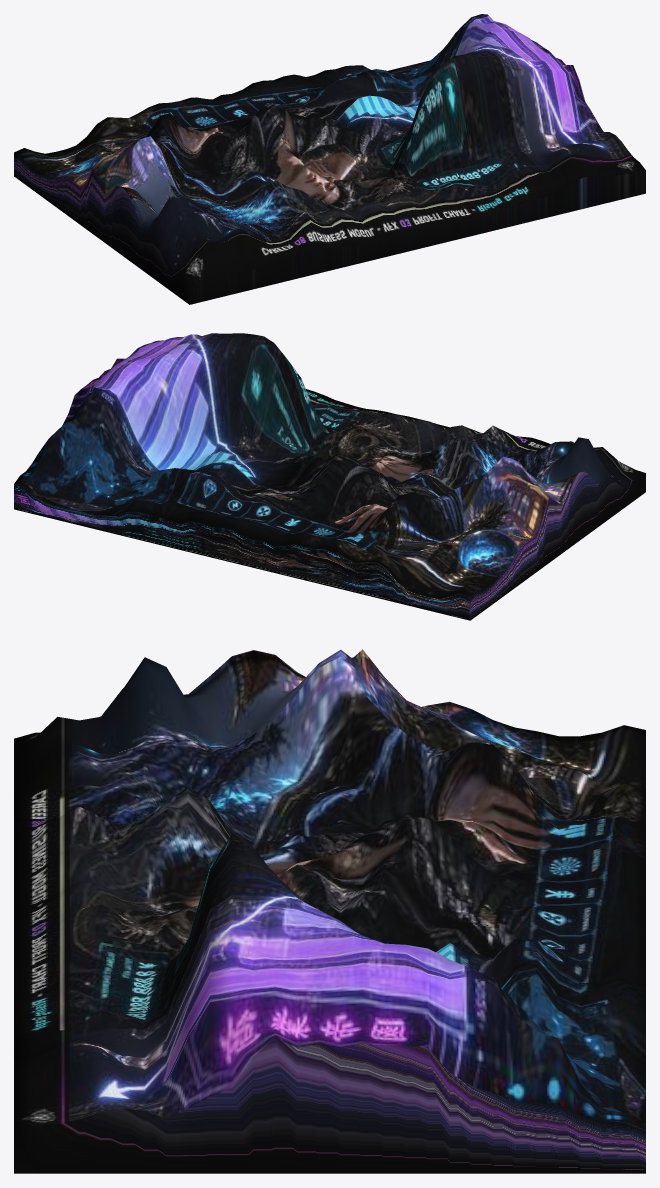
Rendered from CAREER_08_VFX_03_Profit_Chart.glb.
3 renders of one model, top to bottom at view 1: azimuth 30°, elevation 25°; view 2: azimuth 150°, elevation 25°; view 3: azimuth 270°, elevation 25°, orthographic. The views are drawn at different scales.
Parts seen in each view (by area): view 1: CAREER_08_VFX_03_Profit_Chart; view 2: CAREER_08_VFX_03_Profit_Chart; view 3: CAREER_08_VFX_03_Profit_Chart.
Part boxes in pixels (x1,y1,x2,y2): CAREER_08_VFX_03_Profit_Chart: (14, 14, 645, 304); CAREER_08_VFX_03_Profit_Chart: (14, 333, 645, 620); CAREER_08_VFX_03_Profit_Chart: (14, 649, 645, 1173).
Bounding box in the file's own units: 2 × 0.51 × 1.33.
Materials: 1 (1 with a texture image).
